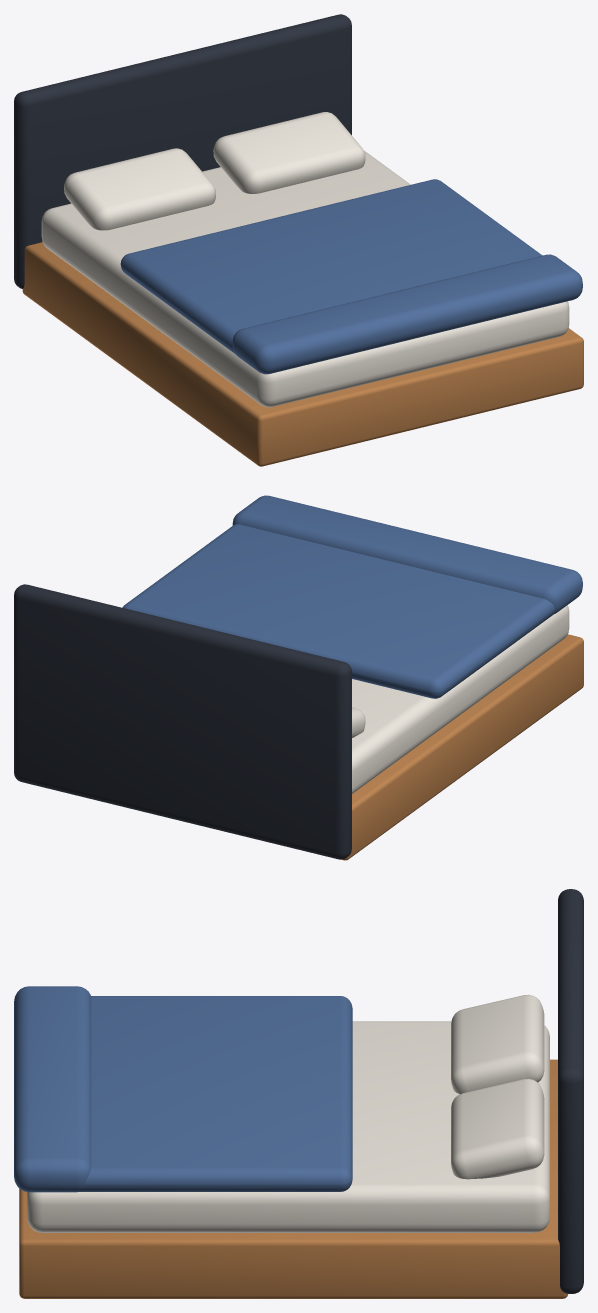
The model's file is cama.glb.
The picture shows the model from 3 angles, top to bottom: view 1: azimuth 30°, elevation 25°; view 2: azimuth 150°, elevation 25°; view 3: azimuth 270°, elevation 25°; orthographic projection. The views are drawn at different scales.
Visible parts, largest first — view 1: Cube.001, Cube.003, Cube, Cube.002, Cube.004, Cube.006, Cube.005; view 2: Cube.001, Cube.003, Cube, Cube.004, Cube.002; view 3: Cube.003, Cube.002, Cube, Cube.004, Cube.001, Cube.006, Cube.005.
Boxes of the visible parts, bbox=[...] form: Cube.001: bbox=[14, 14, 351, 288]; Cube.003: bbox=[120, 179, 542, 353]; Cube: bbox=[22, 242, 583, 466]; Cube.002: bbox=[41, 150, 569, 407]; Cube.004: bbox=[232, 254, 582, 374]; Cube.006: bbox=[213, 112, 365, 193]; Cube.005: bbox=[64, 148, 215, 230]; Cube.001: bbox=[14, 584, 351, 859]; Cube.003: bbox=[122, 524, 555, 698]; Cube: bbox=[342, 634, 583, 860]; Cube.004: bbox=[232, 495, 582, 613]; Cube.002: bbox=[352, 605, 569, 793]; Cube.003: bbox=[79, 996, 352, 1191]; Cube.002: bbox=[27, 1021, 549, 1232]; Cube: bbox=[19, 1059, 567, 1298]; Cube.004: bbox=[14, 986, 91, 1192]; Cube.001: bbox=[558, 889, 583, 1293]; Cube.006: bbox=[451, 1078, 544, 1179]; Cube.005: bbox=[451, 994, 544, 1094].
Size of the model in its own units: 1.7 by 0.97 by 2.18.
